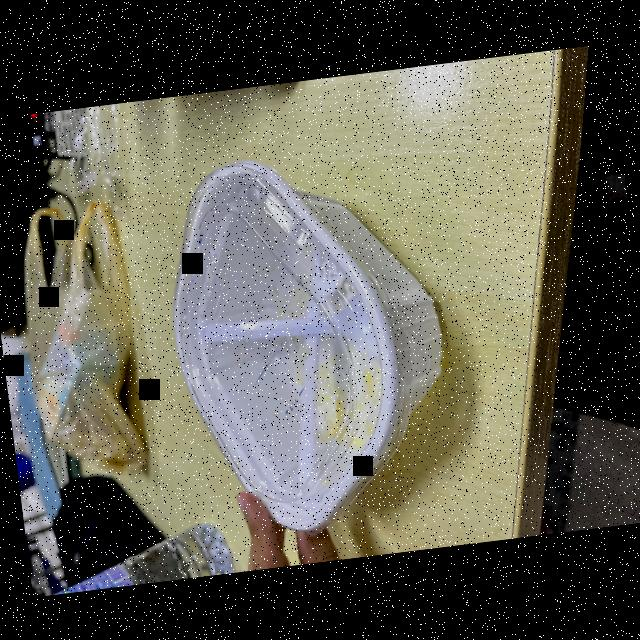plastic_box: (129, 132, 466, 554)
